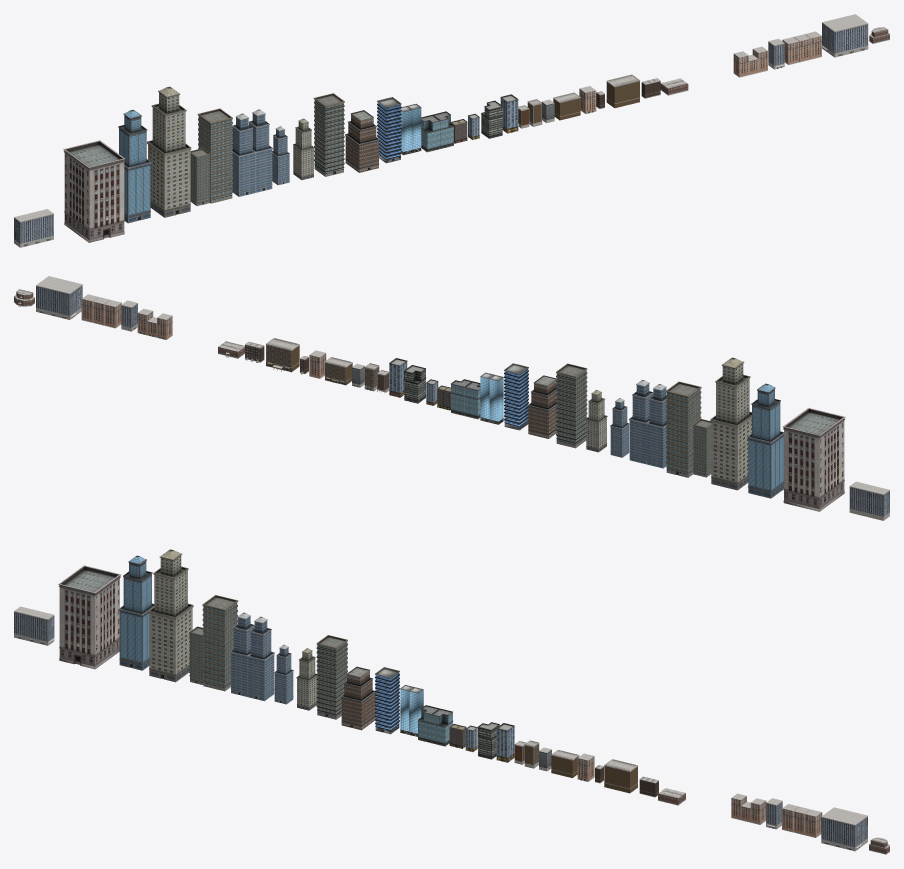
Rendered from Buildings 12.fbx.
3 views of the same model, one above another, from view 1: azimuth 30°, elevation 25°; view 2: azimuth 150°, elevation 25°; view 3: azimuth 330°, elevation 25° (orthographic).
Parts seen in each view (by area): view 1: buildings3, buildings24, buildings12, buildings27, buildings4, buildings20, buildings6, buildings32, buildings1, buildings19, buildings28, buildings22 (+9 smaller); view 2: buildings3, buildings24, buildings12, buildings4, buildings27, buildings20, buildings32, buildings6, buildings1, buildings19, buildings5, buildings9 (+8 smaller); view 3: buildings3, buildings24, buildings12, buildings27, buildings4, buildings20, buildings6, buildings32, buildings1, buildings19, buildings28, buildings22 (+8 smaller).
Boxes of the visible parts, box(x1,y1,x2,y2) form: buildings3: box(63, 140, 125, 242); buildings24: box(147, 86, 191, 217); buildings12: box(190, 108, 232, 205); buildings27: box(232, 109, 272, 196); buildings4: box(118, 109, 151, 223); buildings20: box(313, 93, 344, 176); buildings6: box(345, 110, 379, 172); buildings32: box(822, 14, 868, 57); buildings1: box(377, 97, 401, 163); buildings19: box(14, 209, 53, 247); buildings28: box(421, 111, 453, 152); buildings22: box(293, 118, 314, 180); buildings3: box(783, 408, 845, 511); buildings24: box(710, 357, 751, 490); buildings12: box(665, 381, 711, 477); buildings4: box(747, 383, 783, 498); buildings27: box(629, 380, 666, 468); buildings20: box(556, 363, 587, 448); buildings32: box(36, 276, 82, 319); buildings6: box(528, 375, 556, 438); buildings1: box(504, 363, 528, 430); buildings19: box(849, 481, 889, 520); buildings5: box(480, 372, 503, 424); buildings9: box(81, 294, 121, 328); buildings3: box(58, 565, 121, 669); buildings24: box(148, 549, 193, 682); buildings12: box(189, 595, 238, 691); buildings27: box(230, 612, 274, 701); buildings4: box(119, 555, 154, 670); buildings20: box(316, 635, 347, 719); buildings6: box(341, 666, 375, 730); buildings32: box(821, 807, 867, 851); buildings1: box(375, 667, 399, 734); buildings19: box(14, 606, 54, 645); buildings28: box(418, 705, 452, 746); buildings22: box(296, 648, 317, 710).
Size of the model in its own units: 160712 by 21538 by 8198.
